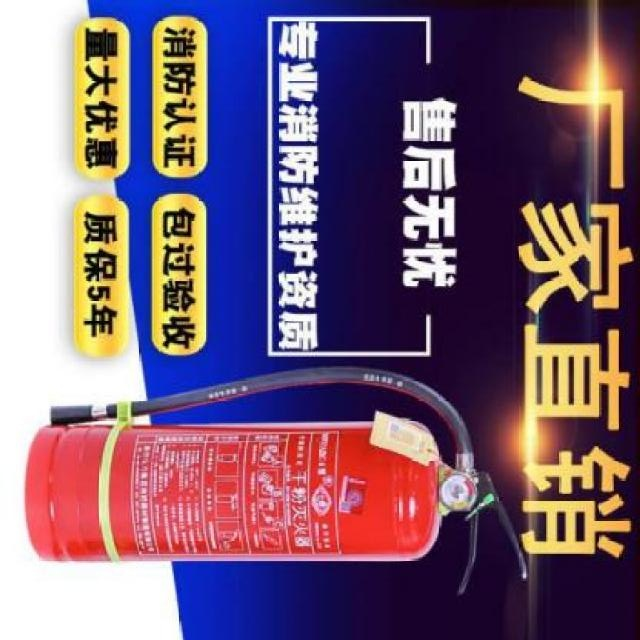fire extinguisher: (23, 365, 528, 593)
